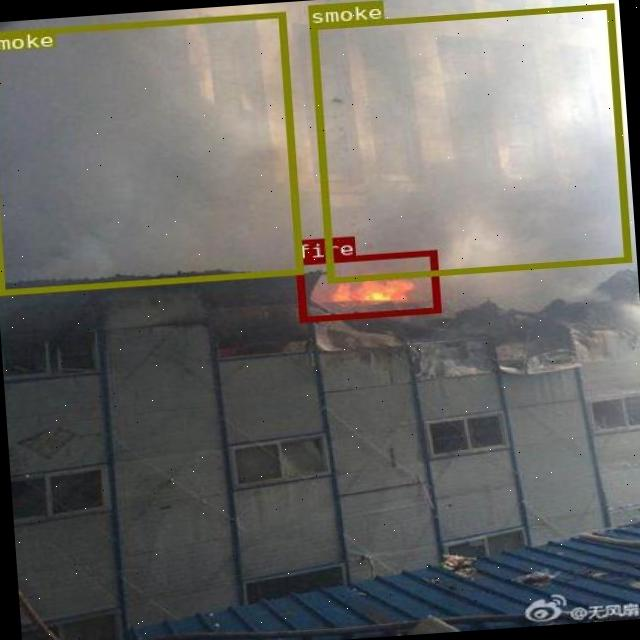fire: (294, 250, 438, 322)
smoke: (308, 2, 630, 282), (0, 10, 301, 293)
